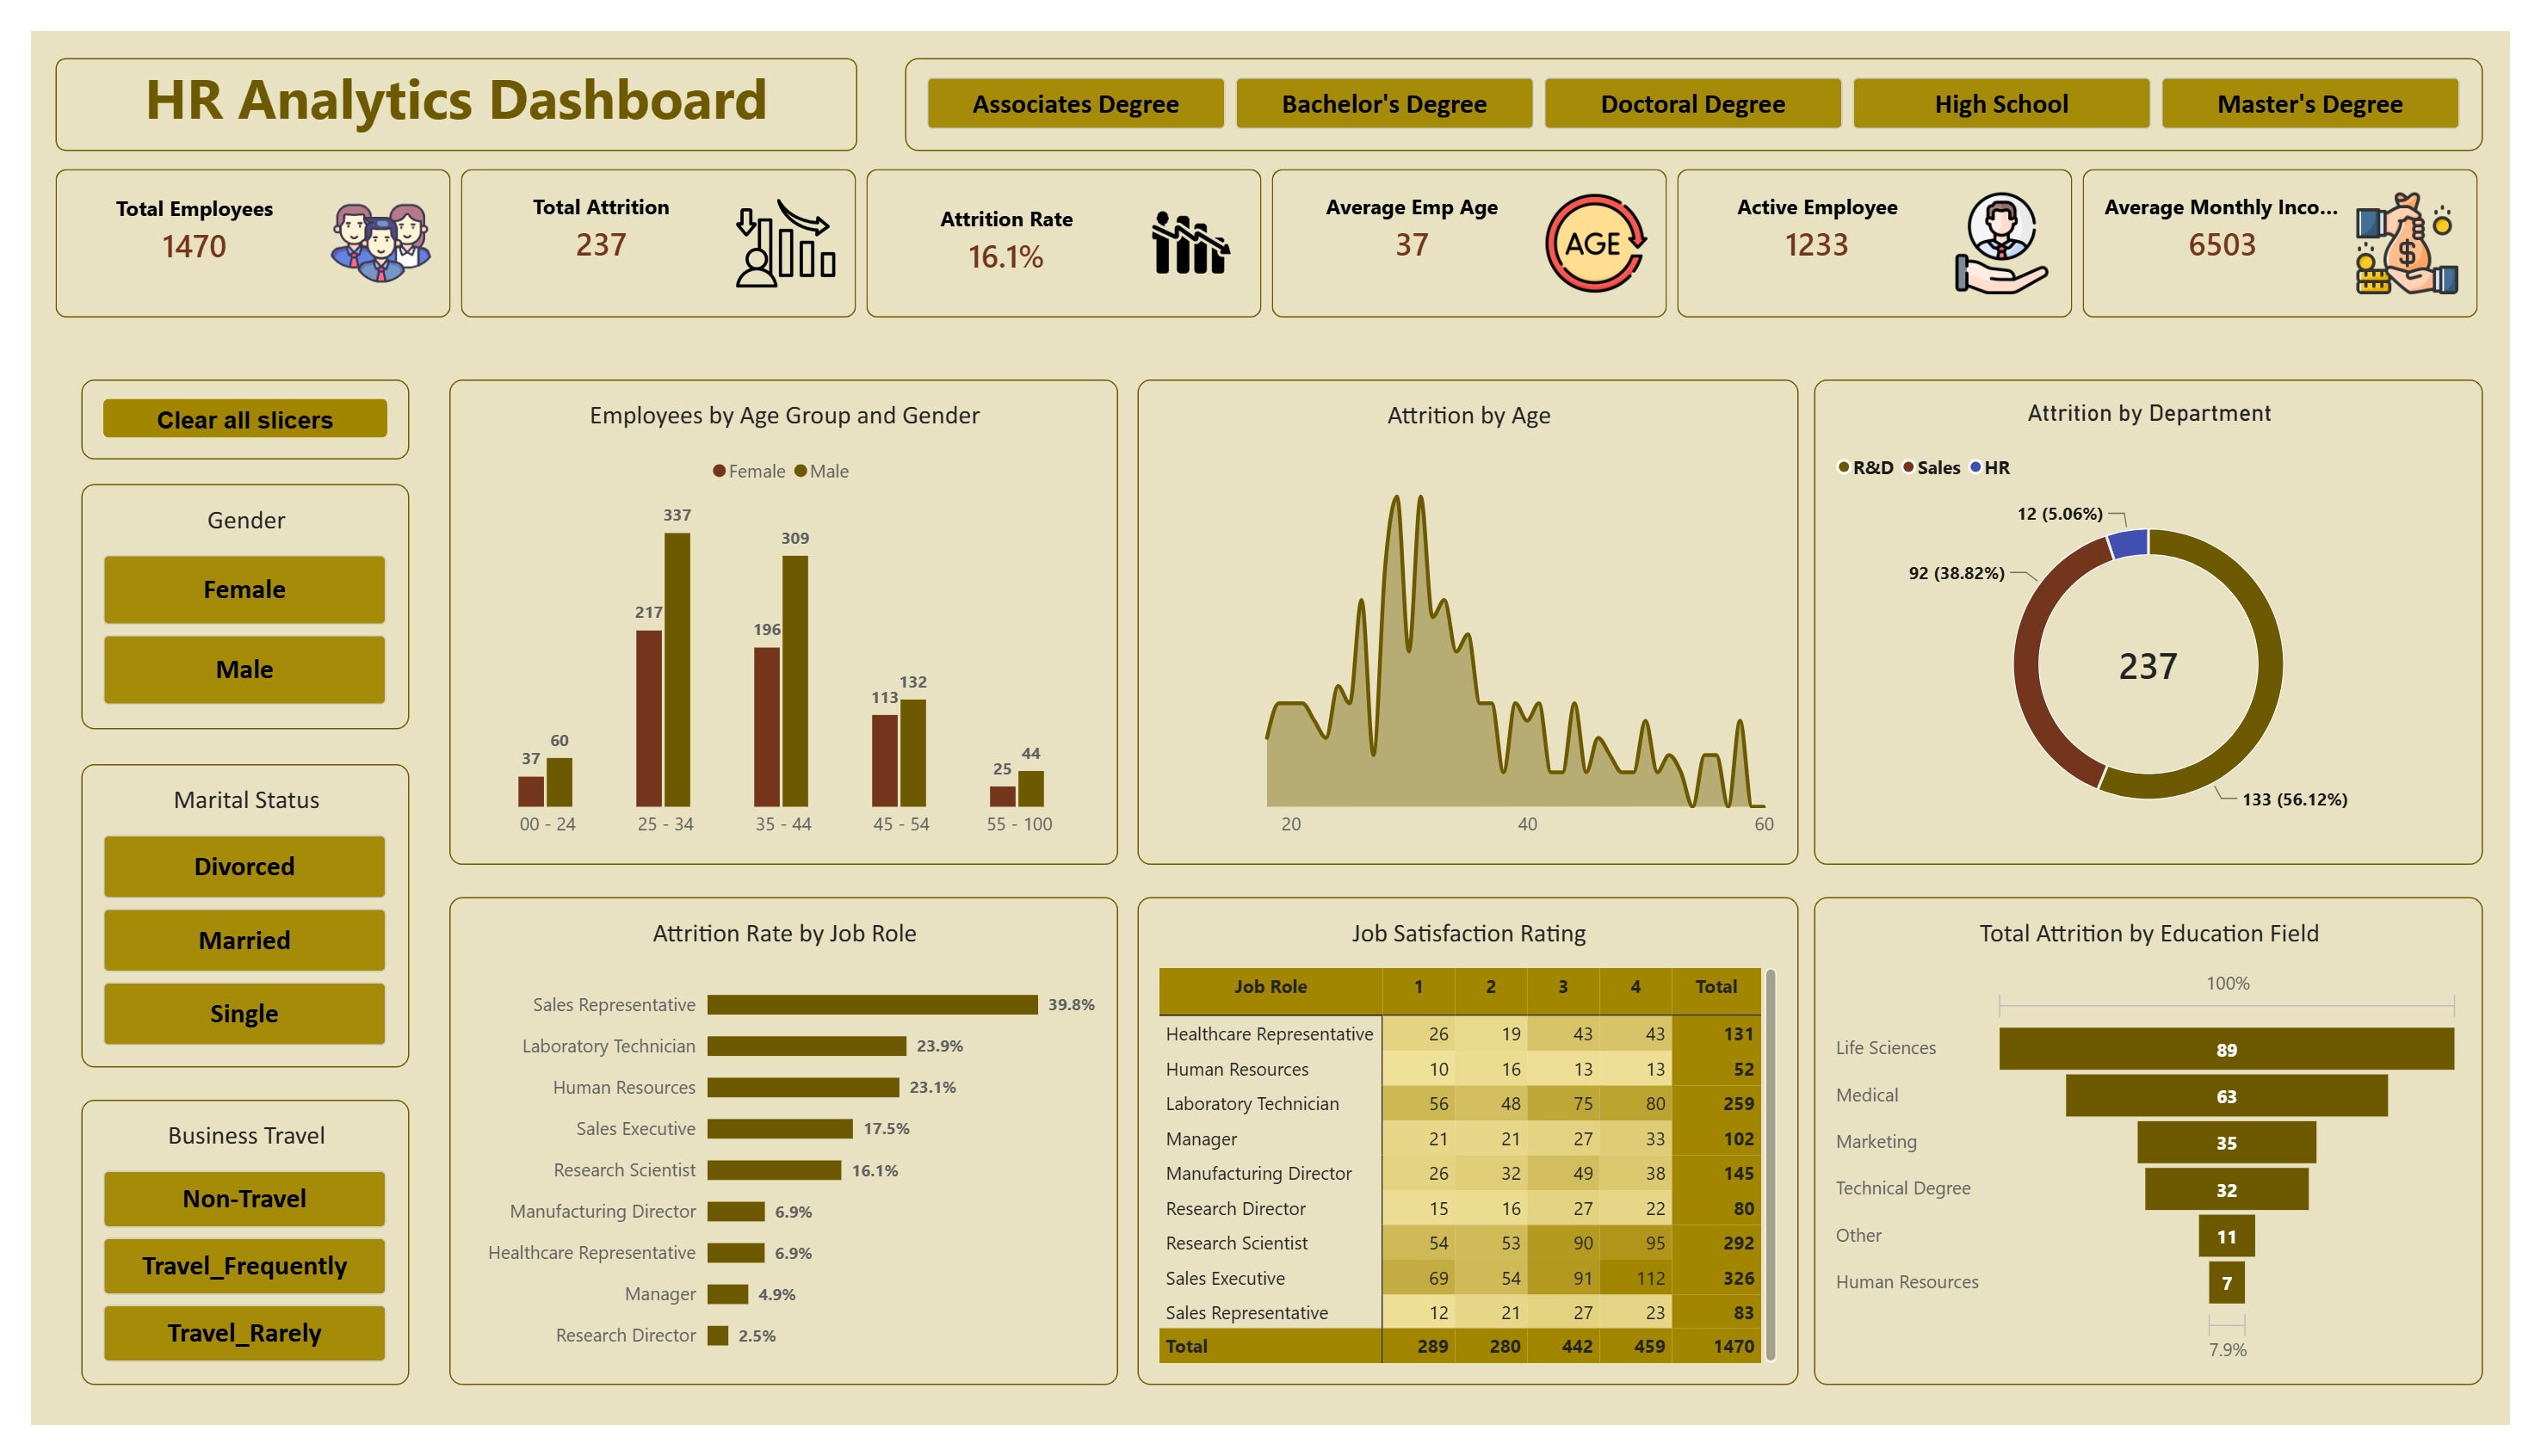

Layout of this report page (visuals, bound fields, positions):
{"tool":"powerbi","page":{"name":"Page 1","canvas":[1920,1080],"ordinal":0},"visuals":[{"type":"cardVisual","fields":{"Data":["Measures_.Total Employees","Measures_.Total Attrition","Measures_.Attrition Rate","Measures_.Average Emp Age","Measures_.Active Employee","Measures_.Average Monthly Income"]},"box":[18.6,107.4,1880.8,115.6],"z":0},{"type":"clusteredColumnChart","title":" Employees by Age Group and Gender","fields":{"Category":["HR data.Age Group"],"Series":["HR data.Gender"],"Y":["Measures_.Total Employees"]},"box":[324.1,270.5,518.2,375.7],"z":1000},{"type":"stackedAreaChart","title":"Attrition by Age","fields":{"Category":["HR data.Age"],"Y":["Measures_.Total Attrition"]},"box":[856.8,270.5,512,375.7],"z":2000},{"type":"donutChart","title":"Attrition by Department","fields":{"Category":["HR data.Department"],"Y":["Measures_.Total Attrition"]},"box":[1381.2,270.5,518.2,375.7],"z":3000},{"type":"barChart","fields":{"Category":["HR data.Job Role"],"Y":["Measures_.Attrition Rate"]},"box":[324.1,671,518.2,377.8],"z":4000},{"type":"pivotTable","title":"Job Satisfaction Rating","fields":{"Columns":["HR data.Job Satisfaction"],"Rows":["HR data.Job Role"],"Values":["Measures_.Total Employees"]},"box":[856.8,671,512,377.8],"z":5000},{"type":"funnel","fields":{"Category":["HR data.Education Field"],"Y":["Measures_.Total Attrition"]},"box":[1381.2,671,518.2,377.8],"z":6000},{"type":"advancedSlicerVisual","fields":{"Values":["HR data.Gender"]},"box":[39.2,351,253.9,189.9],"z":8000},{"type":"advancedSlicerVisual","fields":{"Values":["HR data.Marital Status"]},"box":[39.2,567.7,253.9,235.4],"z":9000},{"type":"advancedSlicerVisual","fields":{"Values":["HR data.Business Travel"]},"box":[39.2,827.9,253.9,220.9],"z":10000},{"type":"textbox","box":[18.6,20.6,621.4,72.3],"z":11000},{"type":"advancedSlicerVisual","fields":{"Values":["HR data.Education"]},"box":[677.2,20.6,1222.2,72.3],"z":11001},{"type":"actionButton","box":[39.2,270.5,253.9,61.9],"z":11002}]}

Visuals, with their boxes in screenshot pixels (x1, y1, x2, y2), scaled from the page's 1920x1080 canvas onto the 2541x1456 screenshot:
cardVisual - Measures_.Total Employees x Measures_.Total Attrition: BBox(25, 145, 2513, 300)
" Employees by Age Group and Gender" clusteredColumnChart: BBox(429, 365, 1115, 871)
"Attrition by Age" stackedAreaChart: BBox(1134, 365, 1812, 871)
"Attrition by Department" donutChart: BBox(1828, 365, 2513, 871)
barChart - HR data.Job Role x Measures_.Attrition Rate: BBox(429, 904, 1115, 1414)
"Job Satisfaction Rating" pivotTable: BBox(1134, 904, 1812, 1414)
funnel - HR data.Education Field x Measures_.Total Attrition: BBox(1828, 904, 2513, 1414)
advancedSlicerVisual - HR data.Gender: BBox(52, 473, 388, 729)
advancedSlicerVisual - HR data.Marital Status: BBox(52, 765, 388, 1083)
advancedSlicerVisual - HR data.Business Travel: BBox(52, 1116, 388, 1414)
textbox: BBox(25, 28, 847, 126)
advancedSlicerVisual - HR data.Education: BBox(896, 28, 2513, 126)
actionButton: BBox(52, 365, 388, 448)
